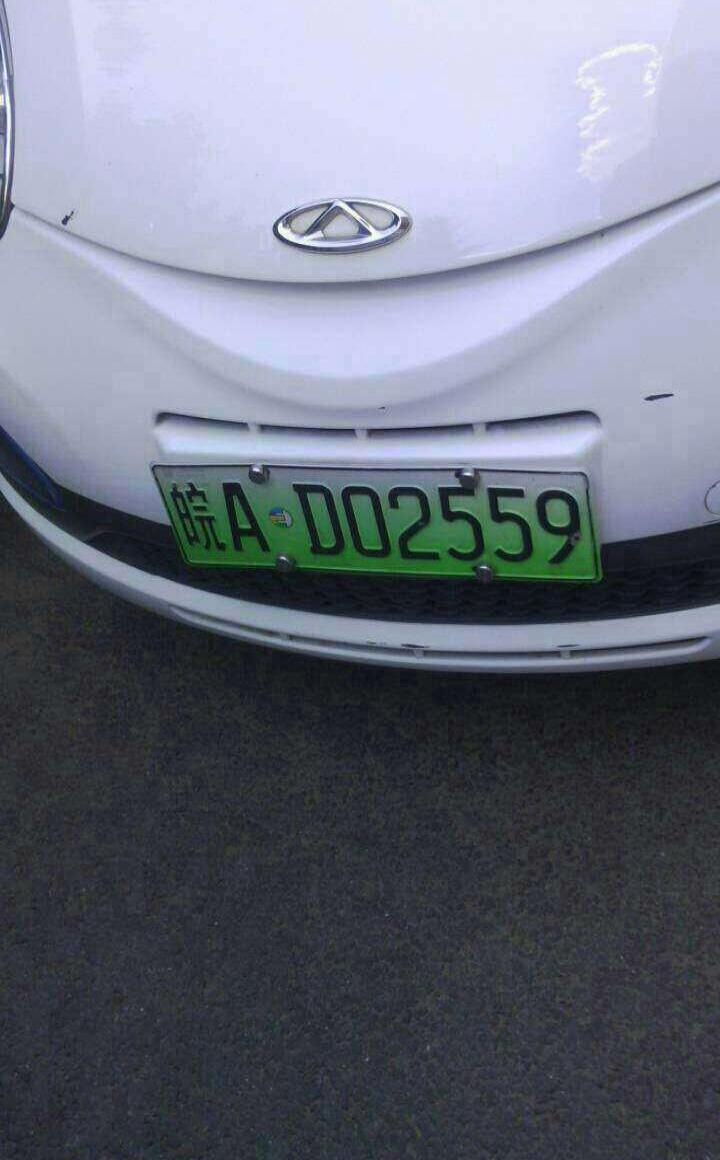car_id: (148, 468, 595, 582)
